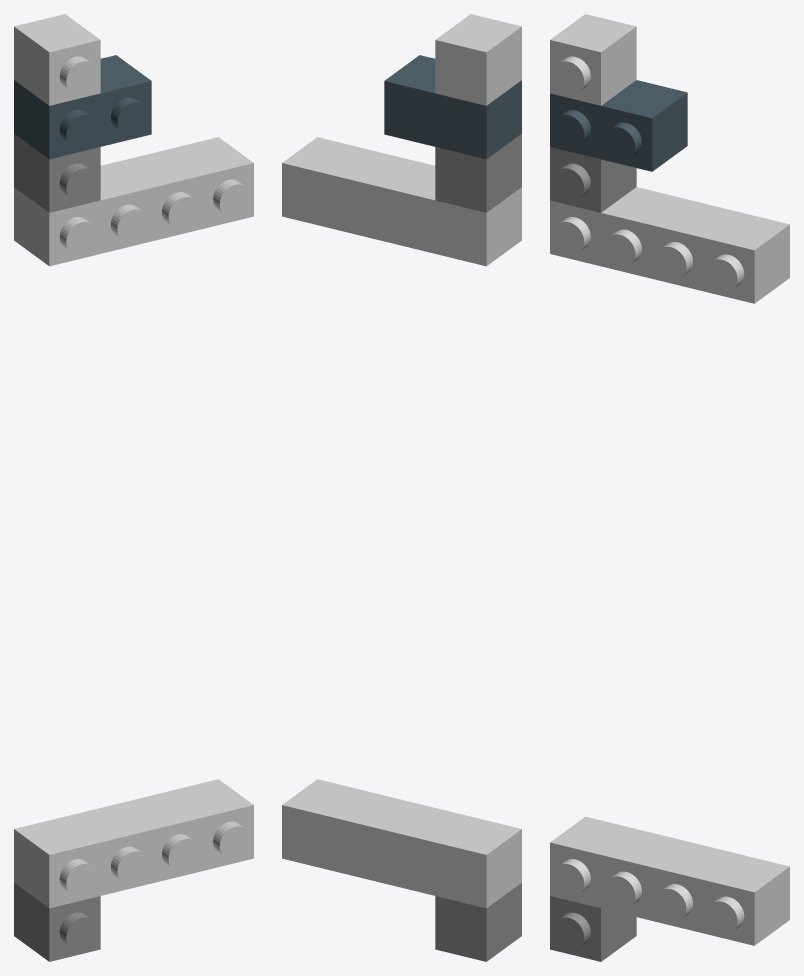
File: current.glb
The picture shows the model from 3 angles, left to right: view 1: azimuth 30°, elevation 25°; view 2: azimuth 150°, elevation 25°; view 3: azimuth 330°, elevation 25°; orthographic projection.
Visible parts, largest first — view 1: world; view 2: world; view 3: world.
Boxes of the visible parts, x1,y1,x2,y2 form: world: [14, 14, 253, 961]; world: [282, 14, 521, 961]; world: [550, 14, 789, 961].
Bounding box in the file's own units: 32 × 136 × 11.4.
